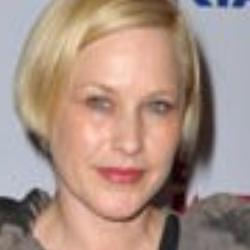face: (8, 1, 220, 224)
